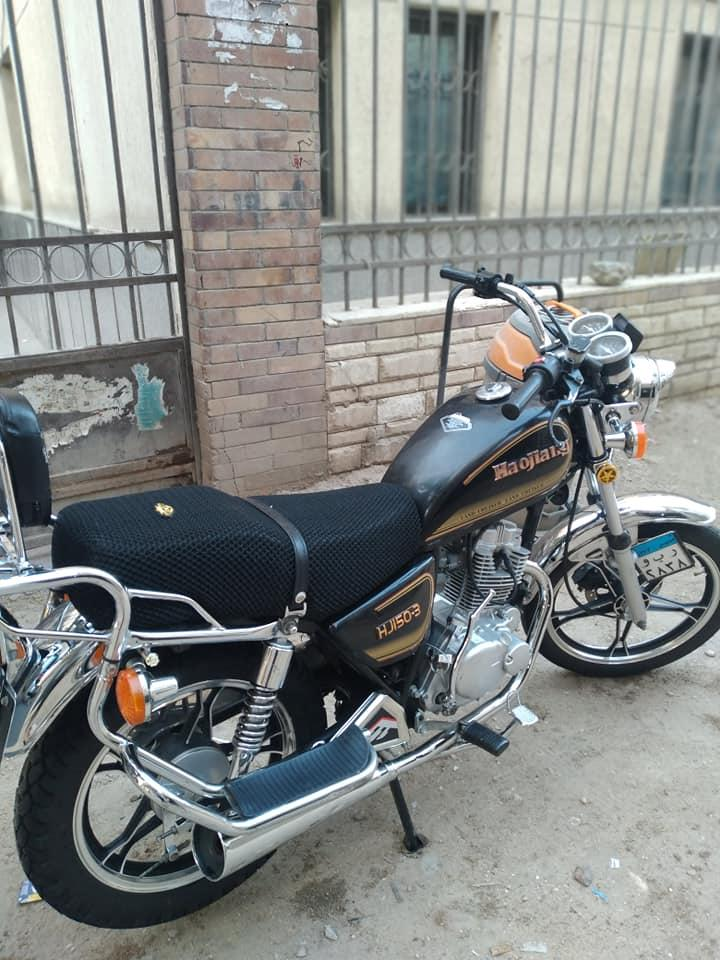License Plate: (634, 531, 696, 583)
